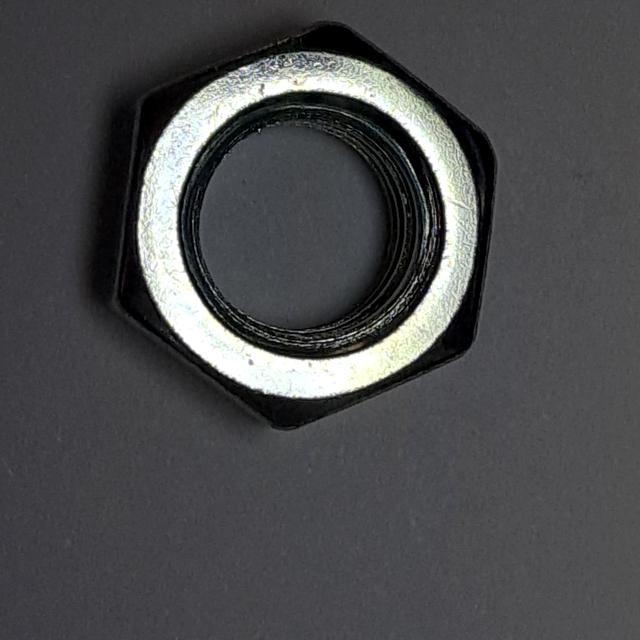Excellent: (96, 15, 511, 449)
